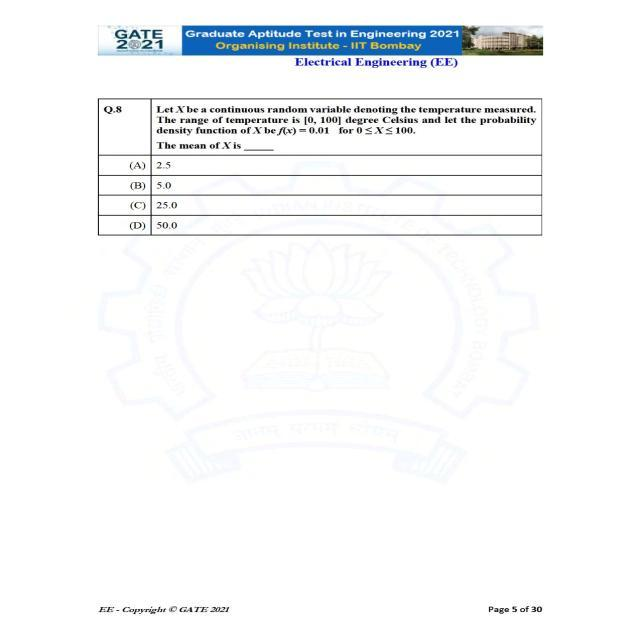Answer_Block: (100, 153, 542, 233)
Question_Answer_Block: (98, 98, 546, 232)
Question_Block: (96, 99, 546, 154)
Question_Paper_Area: (96, 97, 544, 235)
